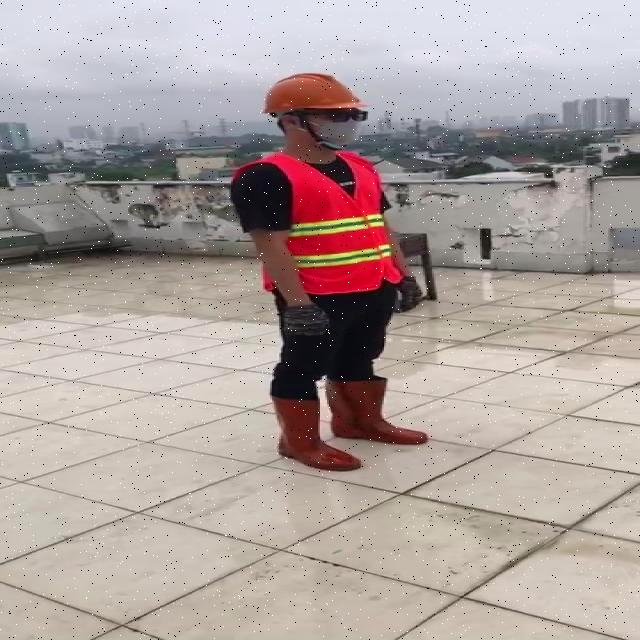Hard_hat: (253, 70, 372, 125)
Person: (225, 68, 420, 630)
Vest: (276, 148, 389, 295)
